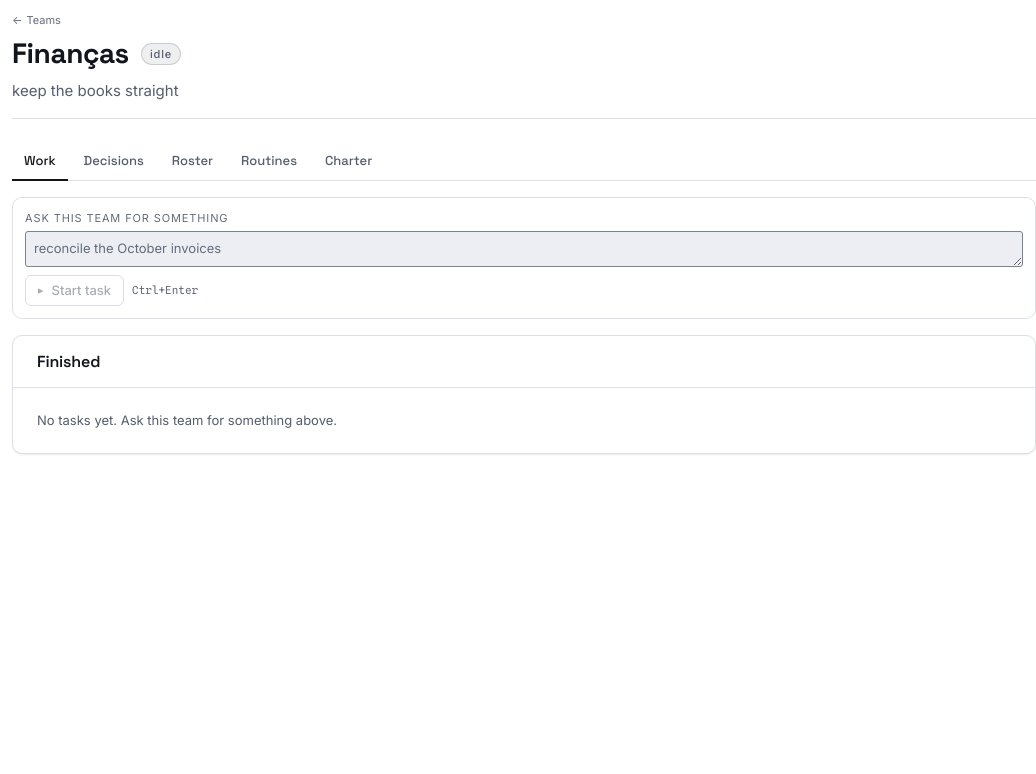
Test: Bench - Routines › offers Duplicate and no editing control at all
Press the mouse on the tab "Routines" at (269, 162), box [229,143,309,181]
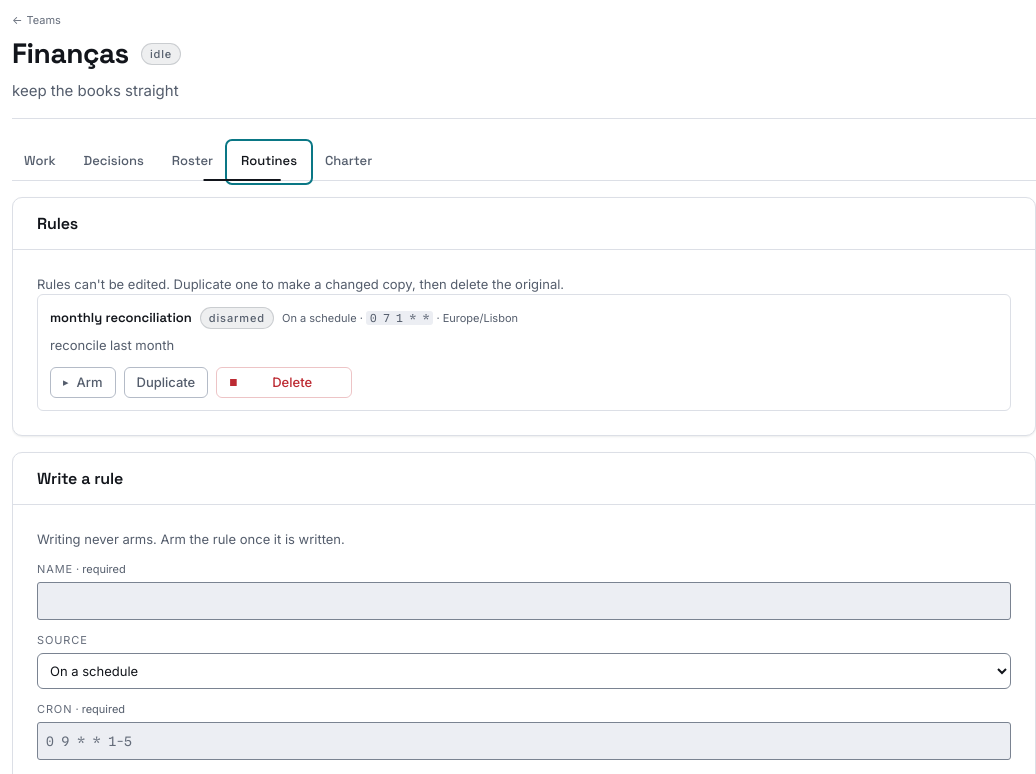
Check: the button "Duplicate" is shown, box [124,367,208,398]
Check: the text "can't be edited" is shown, box [37,276,564,292]
